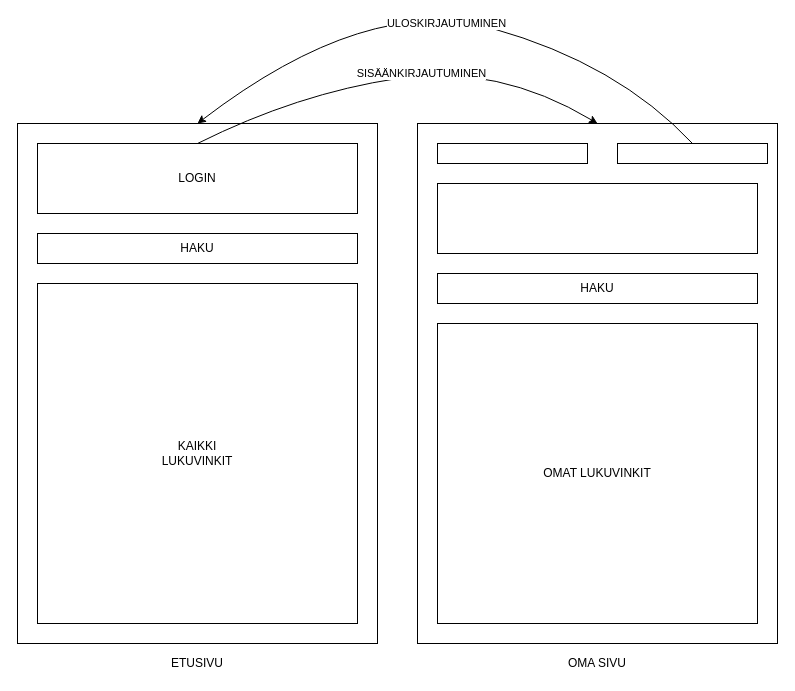
Image size: 795x691. Some labels were removed from this diagram. Here are the shapes that lost their labels. From the top down, the centre of each, then its label:
At (x=512, y=153): "ETUSIVULLE".
At (x=692, y=153): "KIRJAUDU ULOS".
At (x=597, y=218): "LUKUVINKIN LISÄYS".
